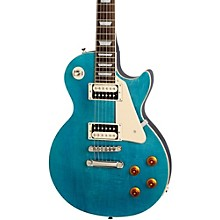ElectricGuitar: (49, 1, 172, 219)
